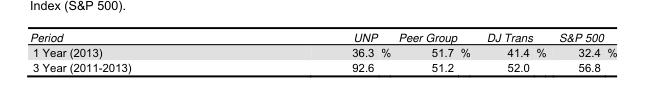table: (28, 28, 616, 73)
table column: (28, 28, 240, 73), (240, 28, 393, 73), (393, 28, 477, 73), (477, 28, 551, 73), (551, 28, 616, 73)
table column header: (28, 28, 616, 44)
table row: (28, 28, 616, 44), (28, 44, 616, 59), (28, 59, 616, 73)
